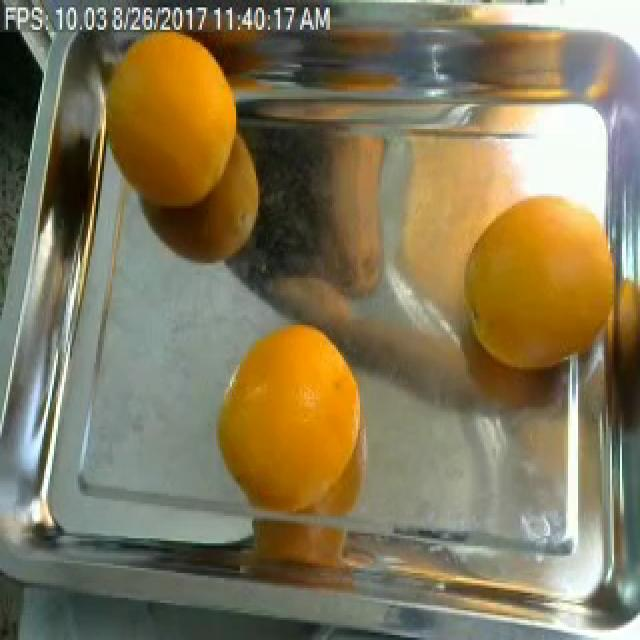Fruit: (242, 96, 412, 318), (206, 307, 374, 508)
